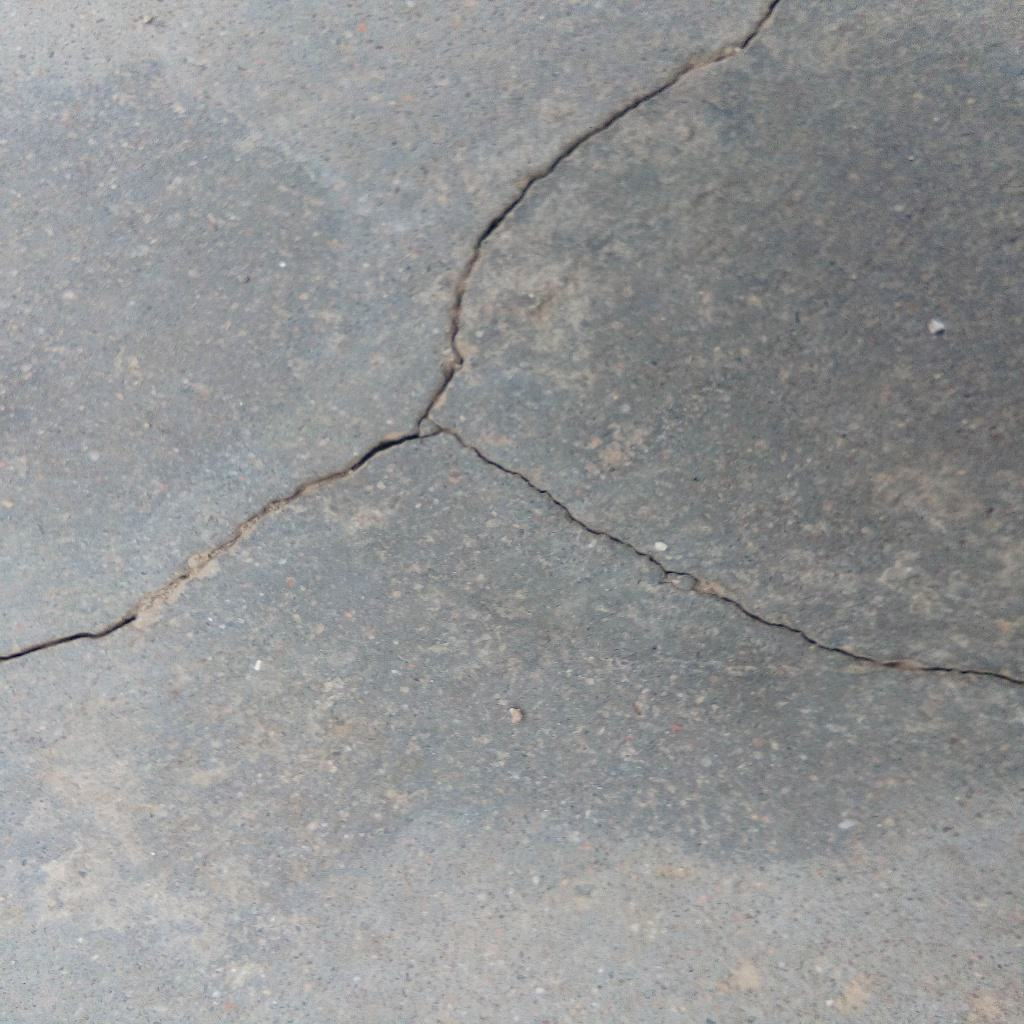Crack: (419, 1, 777, 431), (431, 429, 1024, 682), (1, 429, 430, 662)
